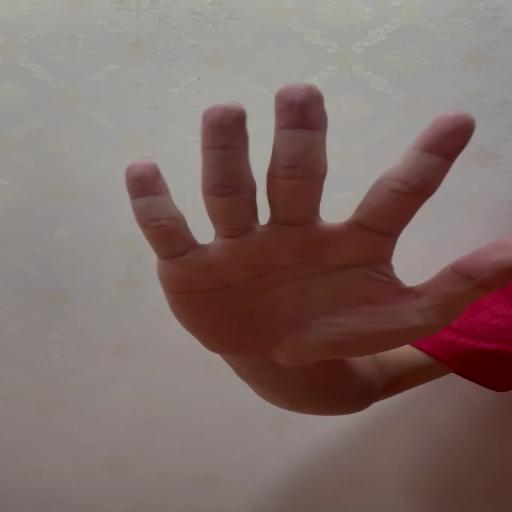open_palm: (124, 80, 512, 365)
